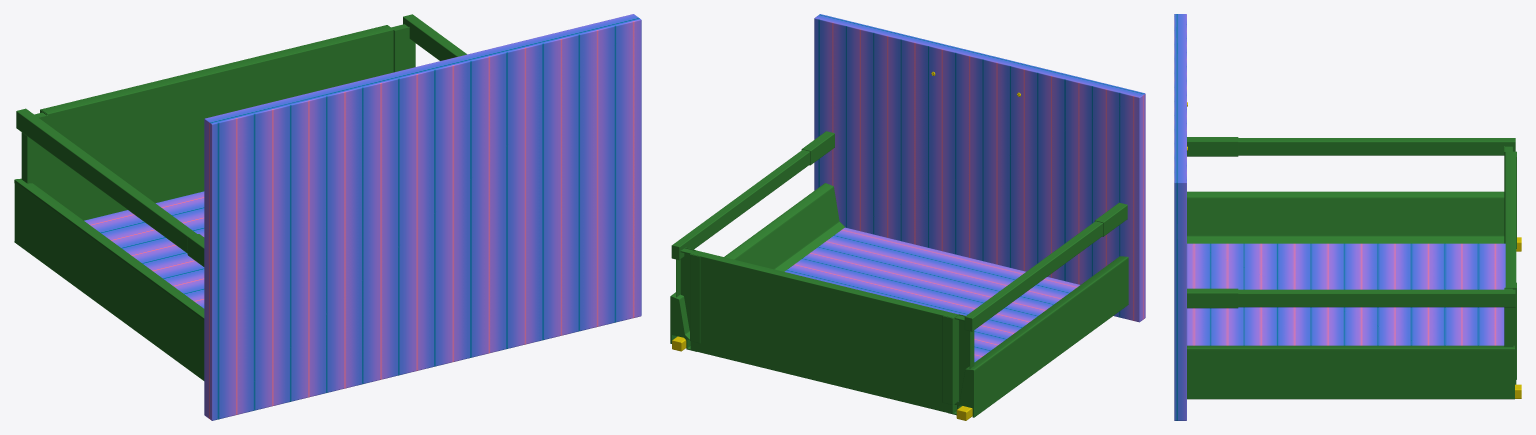
Rendered from SM_Kitchen_01_Drawer_02.fbx.
The picture shows the model from 3 angles, left to right: view 1: azimuth 30°, elevation 25°; view 2: azimuth 150°, elevation 25°; view 3: azimuth 270°, elevation 25°; orthographic projection. The views are drawn at different scales.
Visible parts, largest first — view 1: SM_Kitchen_01_Drawer_02; view 2: SM_Kitchen_01_Drawer_02; view 3: SM_Kitchen_01_Drawer_02.
Part boxes in pixels (box(x1,y1,x2,y2)): SM_Kitchen_01_Drawer_02: box(14, 14, 641, 420); SM_Kitchen_01_Drawer_02: box(670, 14, 1145, 420); SM_Kitchen_01_Drawer_02: box(1174, 14, 1521, 420).
Size of the model in its own units: 59.69 by 39.43 by 51.99.
4 materials, 2 textured.
